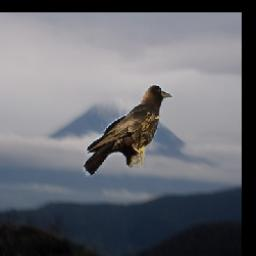Crow: (84, 82, 174, 179)
